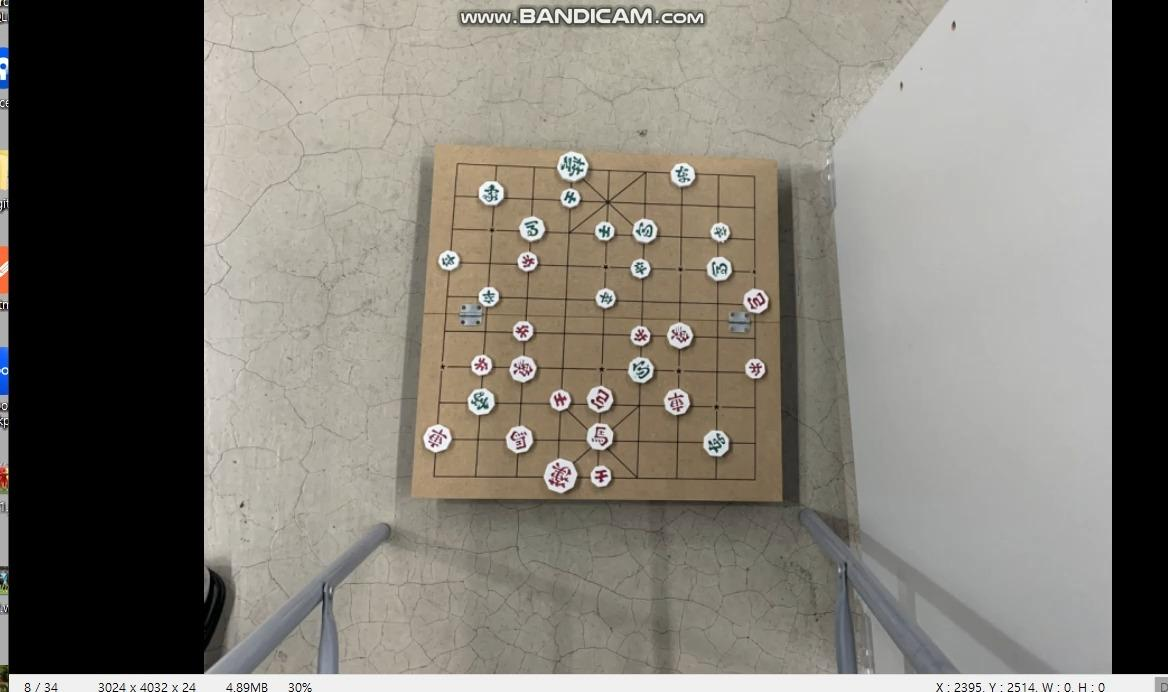cha_green: (701, 432, 732, 456), (669, 164, 697, 187)
cha_red: (422, 425, 453, 451), (662, 390, 692, 414)
jol_green: (629, 260, 653, 279), (437, 252, 461, 270), (595, 289, 617, 308), (709, 223, 732, 241), (478, 287, 500, 305)
jol_red: (470, 356, 495, 375), (744, 359, 768, 378), (511, 322, 535, 341), (630, 327, 653, 346), (517, 253, 540, 271)
ma_green: (706, 257, 734, 280), (518, 218, 546, 241)
ma_red: (504, 427, 535, 453), (585, 424, 615, 450)
po_green: (627, 358, 656, 383), (633, 219, 659, 242)
po_red: (586, 387, 615, 412), (744, 289, 769, 314)
sa_green: (560, 189, 582, 208), (595, 222, 615, 241)
sa_red: (588, 466, 614, 488), (548, 390, 572, 411)
sang_green: (466, 390, 497, 415), (477, 181, 506, 207)
sang_red: (509, 357, 538, 383), (666, 323, 694, 348)
wang_green: (556, 153, 590, 181)
wang_red: (542, 461, 579, 492)
